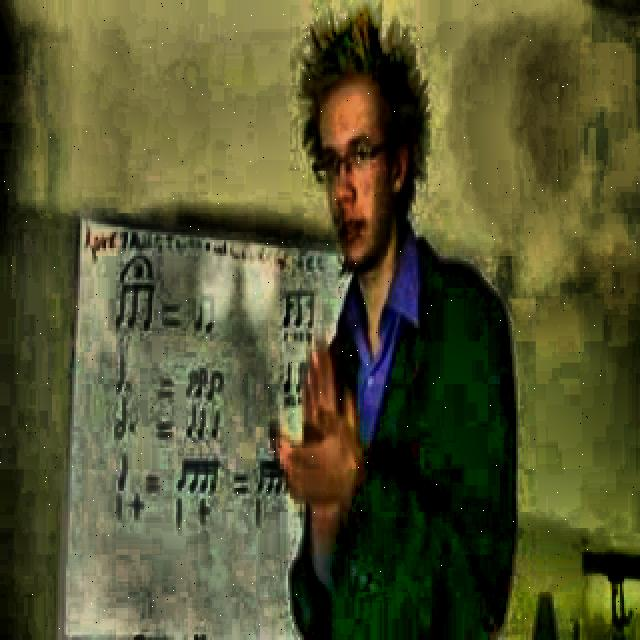F: (260, 1, 530, 640)
